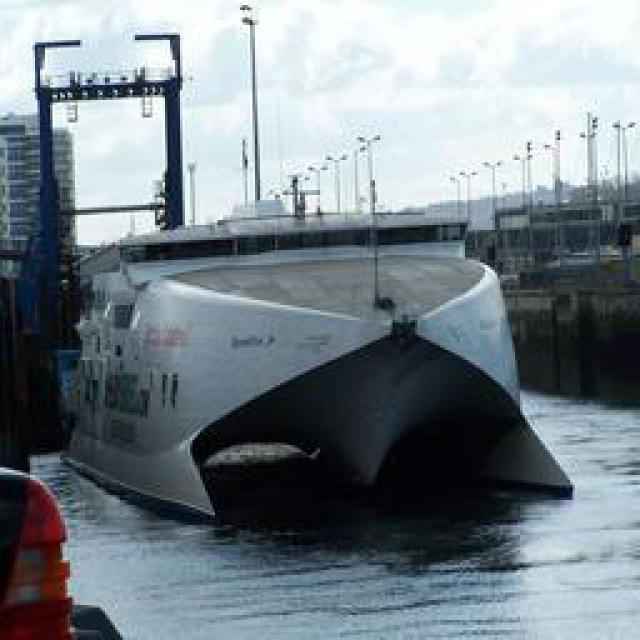Ship: (62, 233, 565, 528)
